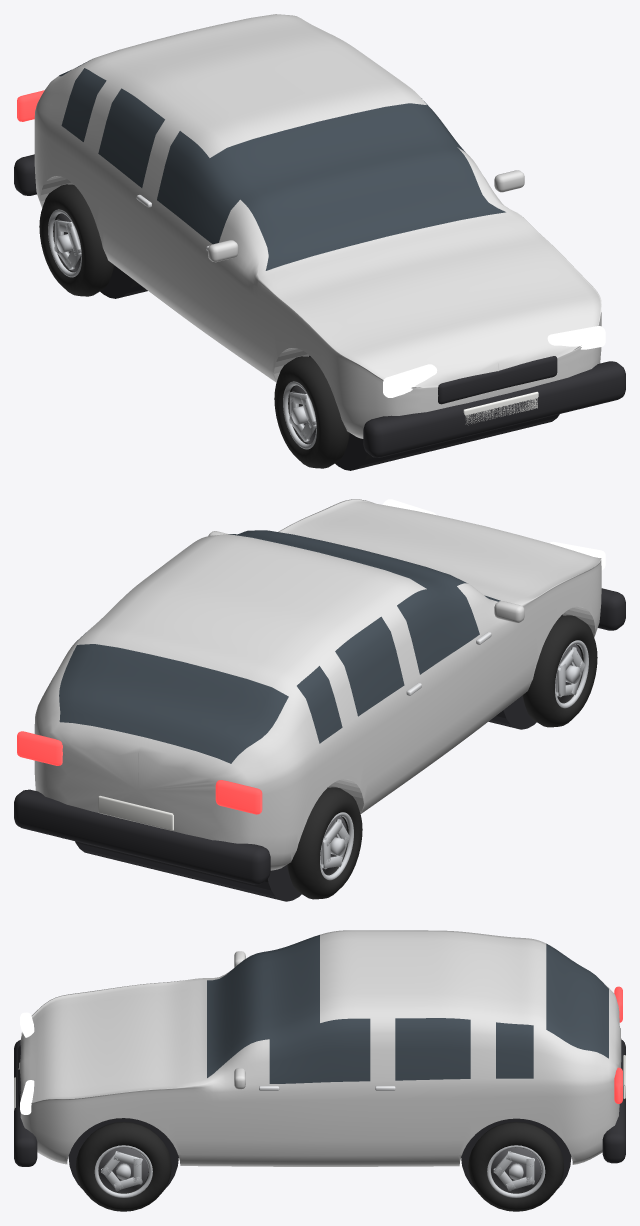
File: car.glb
The picture shows the model from 3 angles, top to bottom: view 1: azimuth 30°, elevation 25°; view 2: azimuth 150°, elevation 25°; view 3: azimuth 270°, elevation 25°; orthographic projection. The views are drawn at different scales.
Visible parts, largest first — view 1: body, bumper_f, Torus, Torus.002, grille, Cylinder, plate_f, head, head.001, Cylinder.001, bumper_r; view 2: body, bumper_r, Torus.002, Torus, Cylinder.001, plate_r, tail, tail.001, bumper_f, Cylinder, Torus.003, Torus.001; view 3: body, Torus.004, Torus.006, bumper_f, Cylinder, Cylinder.001, bumper_r, Cylinder.008, Cylinder.006, Torus.005, Torus.007.
Boxes of the visible parts, <box> form: body: <box>34,14,601,438</box>; bumper_f: <box>363,361,625,457</box>; Torus: <box>274,356,349,468</box>; Torus.002: <box>39,184,114,296</box>; grille: <box>438,356,557,404</box>; Cylinder: <box>309,355,559,470</box>; plate_f: <box>463,391,538,425</box>; head: <box>383,364,437,397</box>; head.001: <box>547,326,605,349</box>; Cylinder.001: <box>100,265,147,298</box>; bumper_r: <box>14,154,36,195</box>; body: <box>34,499,601,870</box>; bumper_r: <box>14,789,270,884</box>; Torus.002: <box>287,787,362,899</box>; Torus: <box>522,615,597,727</box>; Cylinder.001: <box>75,841,301,901</box>; plate_r: <box>98,795,173,830</box>; tail: <box>215,780,262,814</box>; tail.001: <box>17,731,62,765</box>; bumper_f: <box>598,588,625,630</box>; Cylinder: <box>488,614,562,729</box>; Torus.003: <box>320,812,353,880</box>; Torus.001: <box>555,640,588,708</box>; body: <box>18,930,621,1166</box>; Torus.004: <box>75,1122,171,1211</box>; Torus.006: <box>468,1122,564,1211</box>; bumper_f: <box>14,1040,37,1166</box>; Cylinder: <box>68,1118,178,1189</box>; Cylinder.001: <box>461,1118,571,1189</box>; bumper_r: <box>602,1039,625,1163</box>; Cylinder.008: <box>491,1148,541,1192</box>; Cylinder.006: <box>98,1148,148,1192</box>; Torus.005: <box>94,1145,152,1197</box>; Torus.007: <box>487,1145,545,1197</box>.
Bounding box in the file's own units: 2.08 × 1.53 × 4.21.
